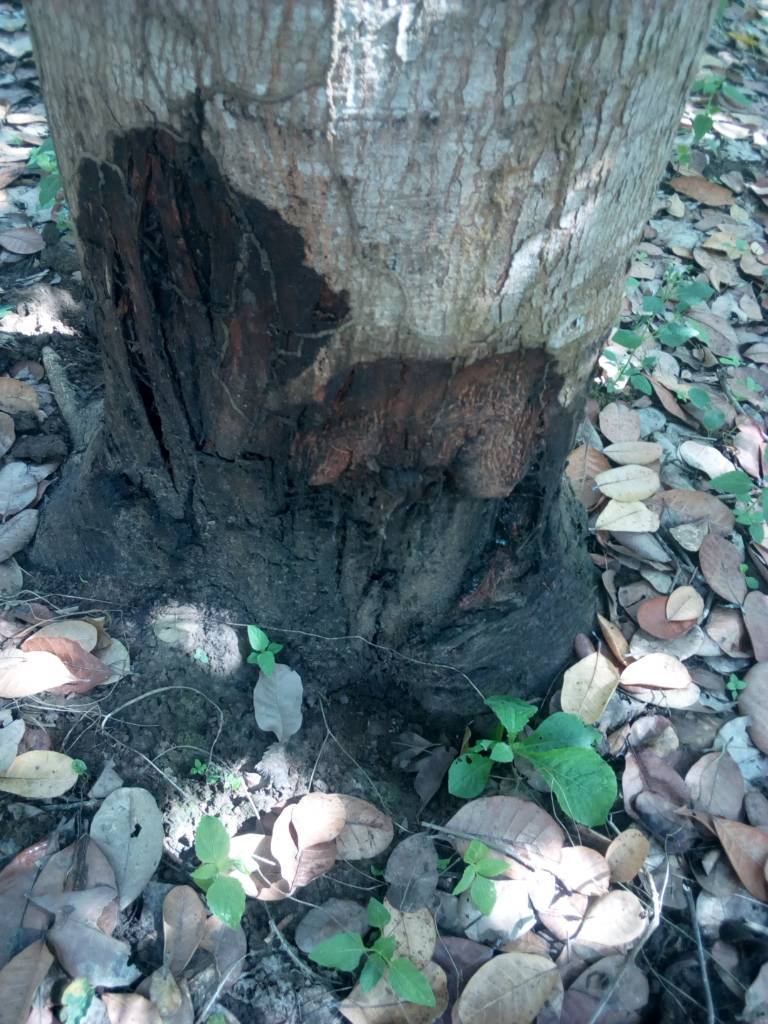Gommose: (77, 150, 563, 692)
